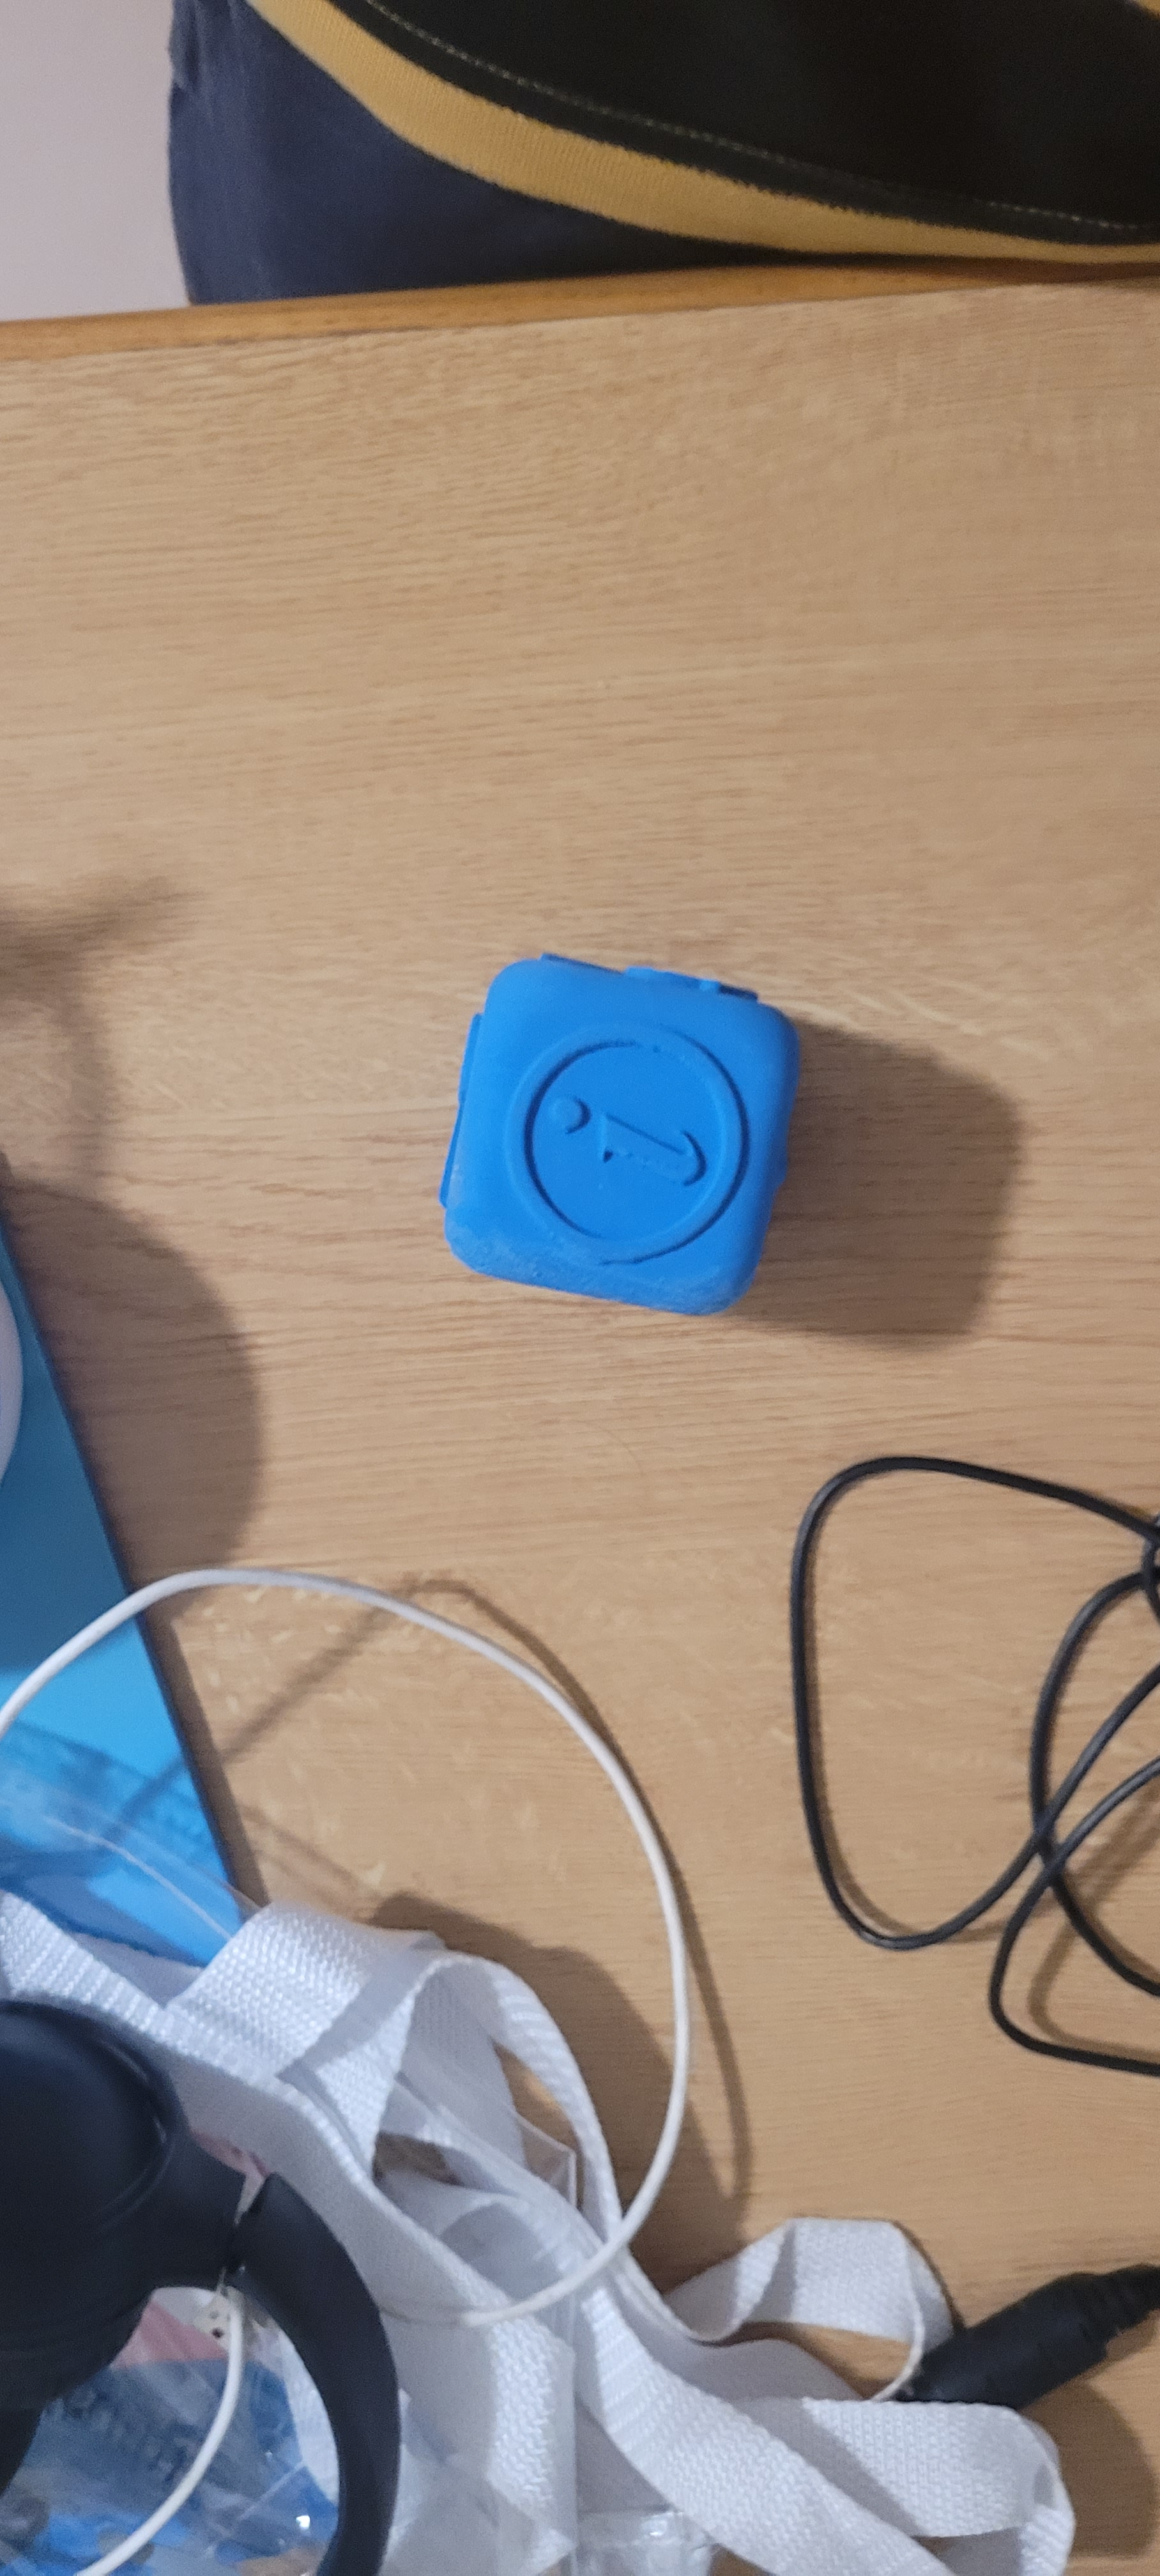Info: (499, 974, 780, 1341)
